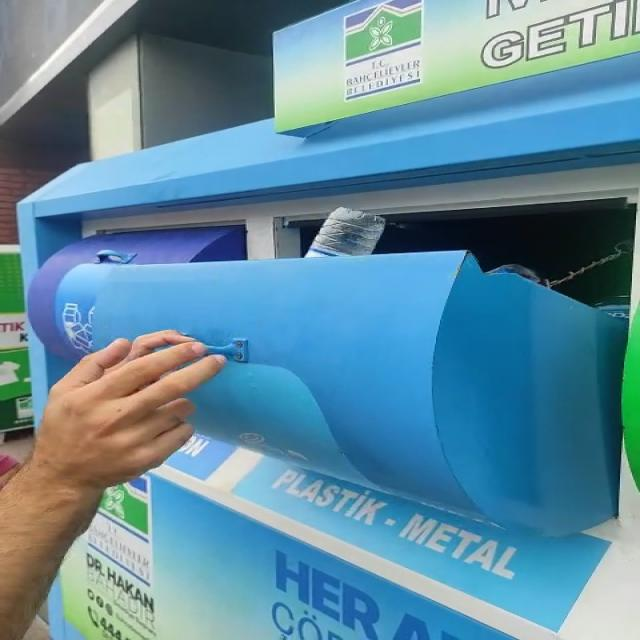plastic: (305, 207, 385, 258)
